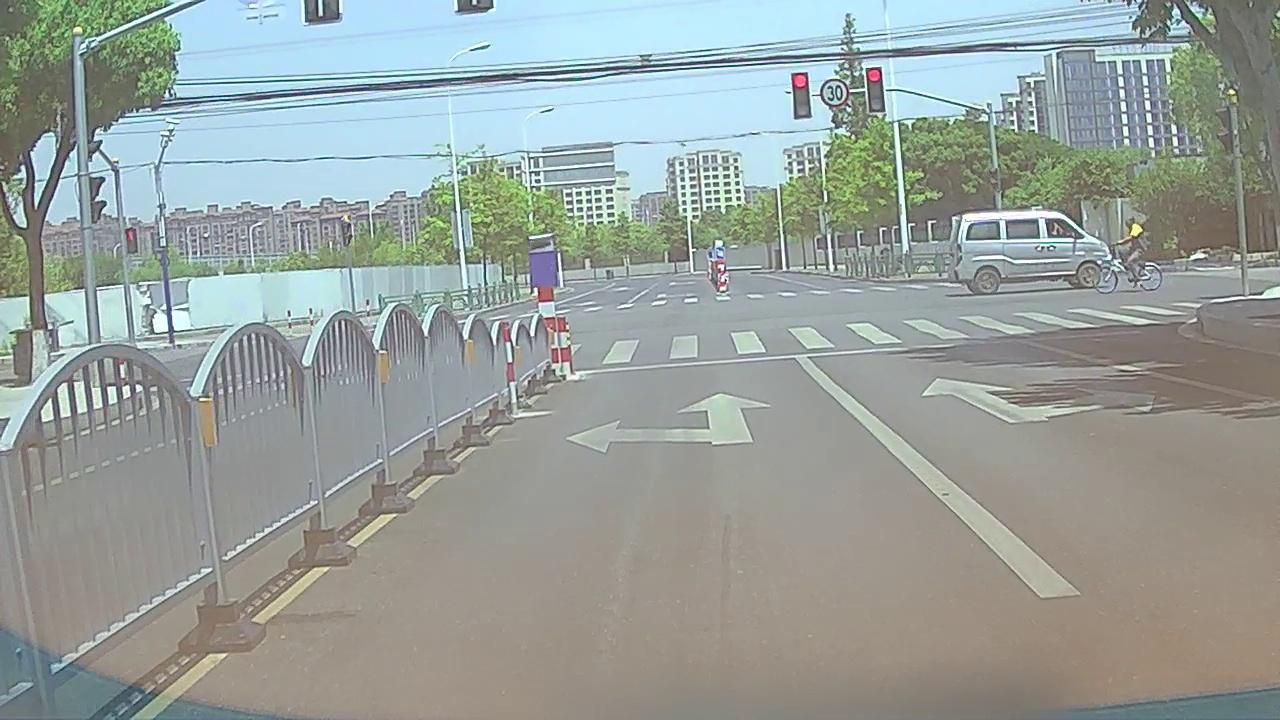traffic_light: (867, 69, 884, 112), (794, 73, 809, 117)
